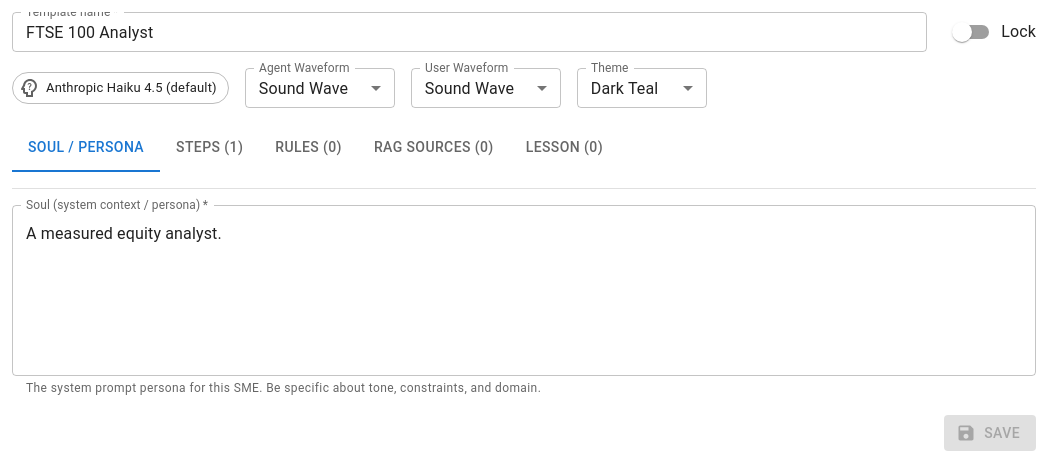
SmeEditor › changing the User waveform does not affect the Agent waveform
What coordinates should you click on to do the following:
click the dropdown named "User waveform visualisation"
I would click on:
 (469, 88)
Its box is x1=425 y1=78 x2=514 y2=98.
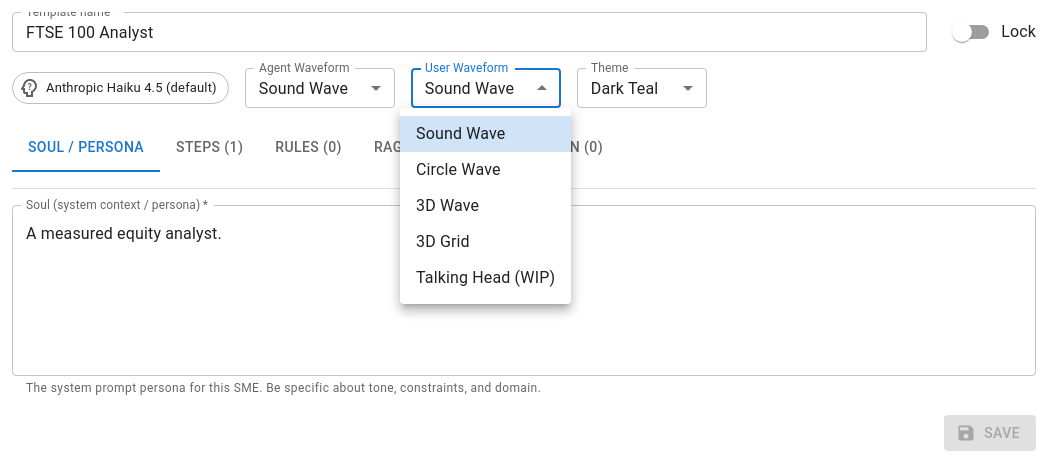
What coordinates should you click on to do the following:
click the option "Circle Wave"
I would click on:
 (458, 170)
Its box is x1=416 y1=160 x2=501 y2=179.
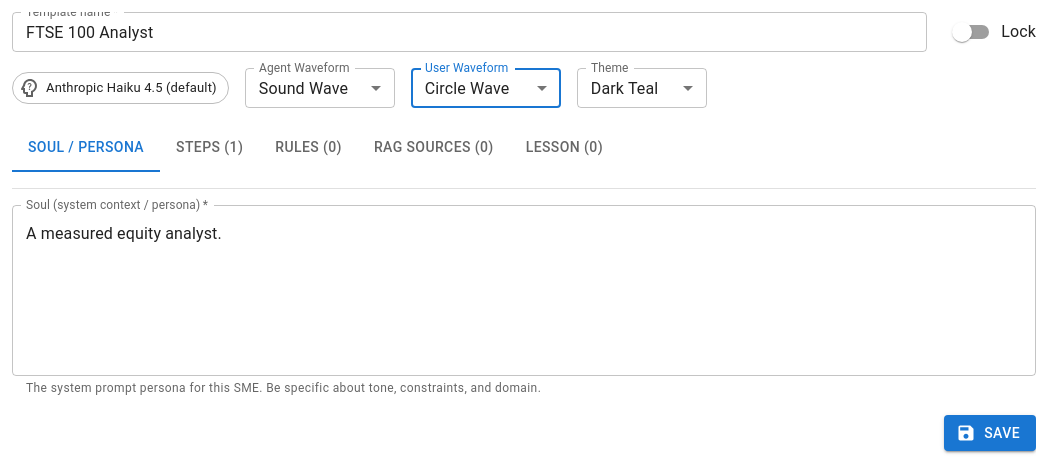
Expected: the dropdown named "Agent waveform visualisation" reads "Sound Wave", x1=259 y1=78 x2=348 y2=98
Now the dropdown named "User waveform visualisation" reads "Circle Wave", box x1=425 y1=78 x2=509 y2=98
